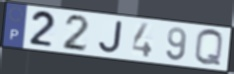2: (27, 8, 59, 51), (61, 14, 92, 53)
4: (131, 21, 154, 60)
9: (165, 26, 188, 62)
J: (97, 19, 124, 54)
Q: (193, 28, 225, 68)
